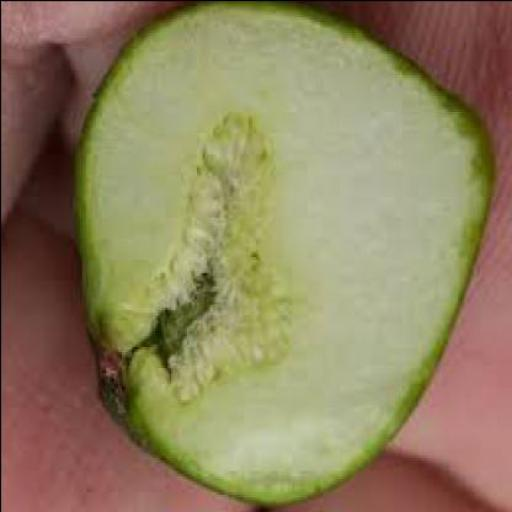biodegradable: (75, 2, 496, 510)
